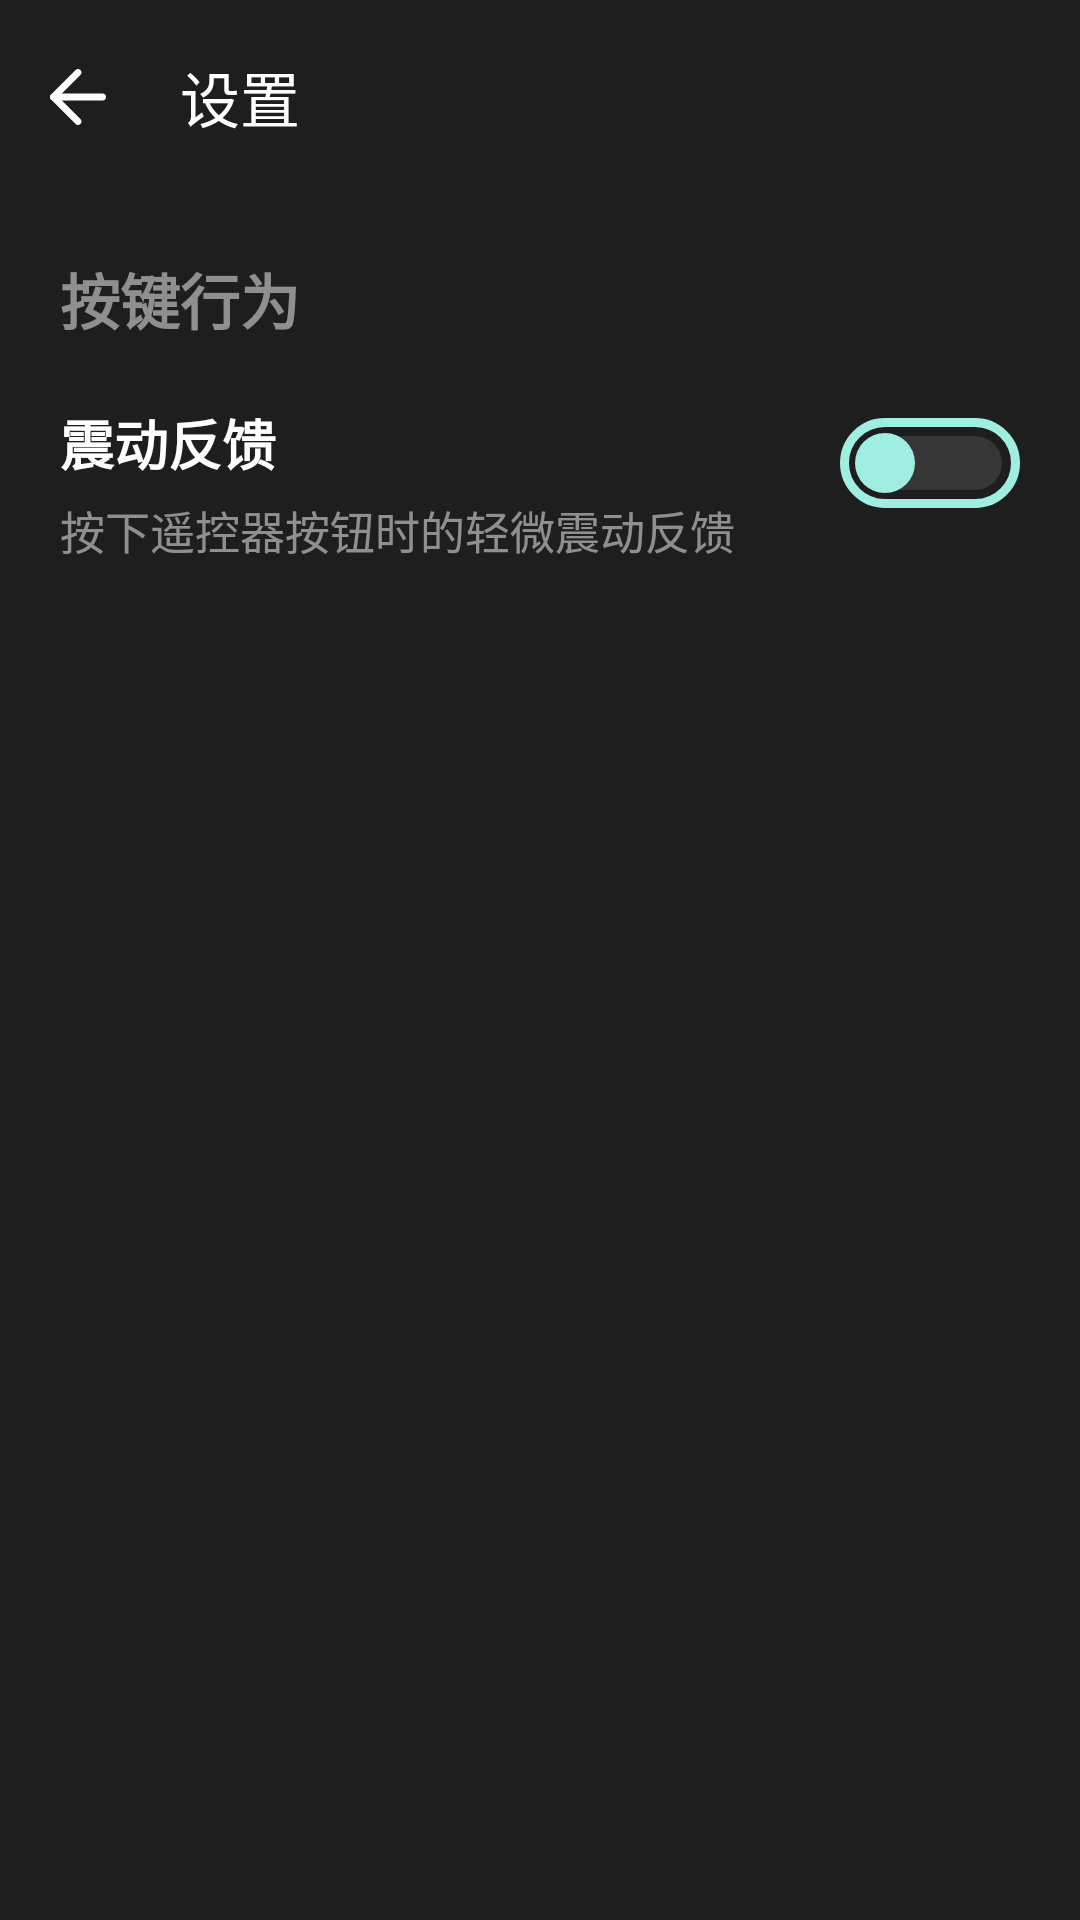

Where to tap for icons on this 1080 × 1920 app screen, as (x=x, y=y):
返回: (x=78, y=97)
